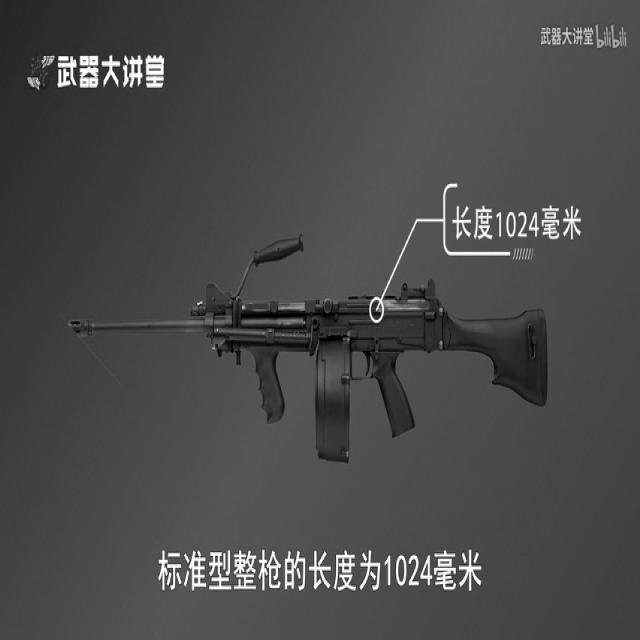Sub-machine-gun: (64, 264, 548, 450)
